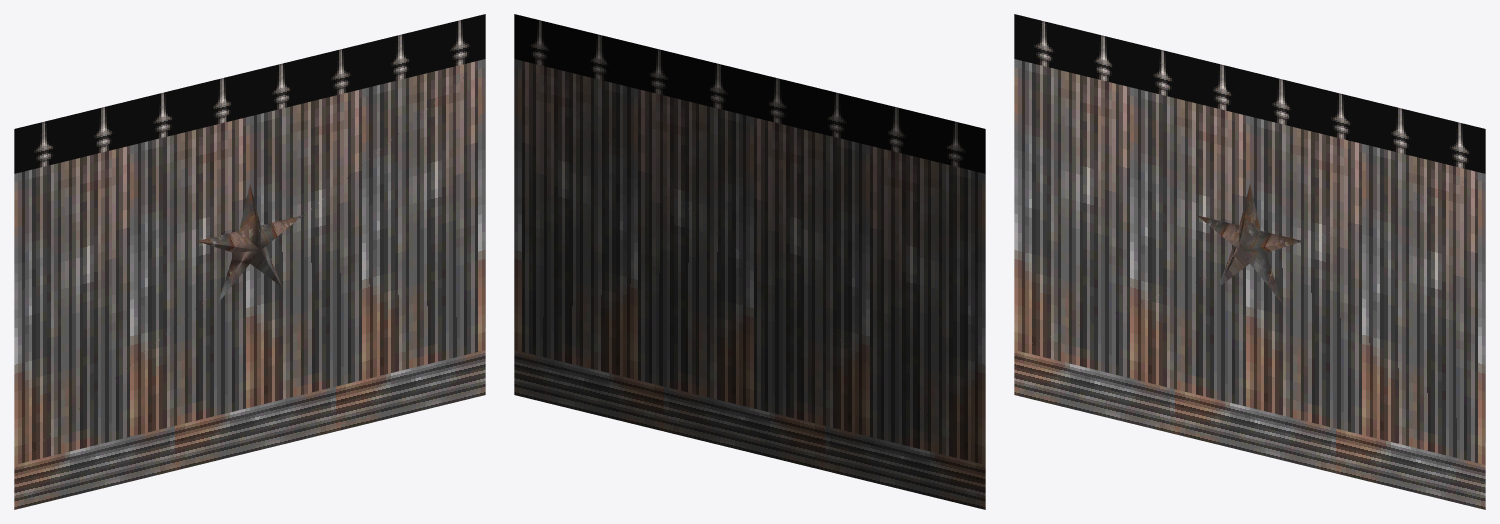
Rendered from Pdepot_gate_entryZ.obj.
The picture shows the model from 3 angles, left to right: view 1: azimuth 30°, elevation 25°; view 2: azimuth 150°, elevation 25°; view 3: azimuth 330°, elevation 25°; orthographic projection.
Size of the model in its own units: 1284 by 992 by 50.
3 materials, 3 textured.
